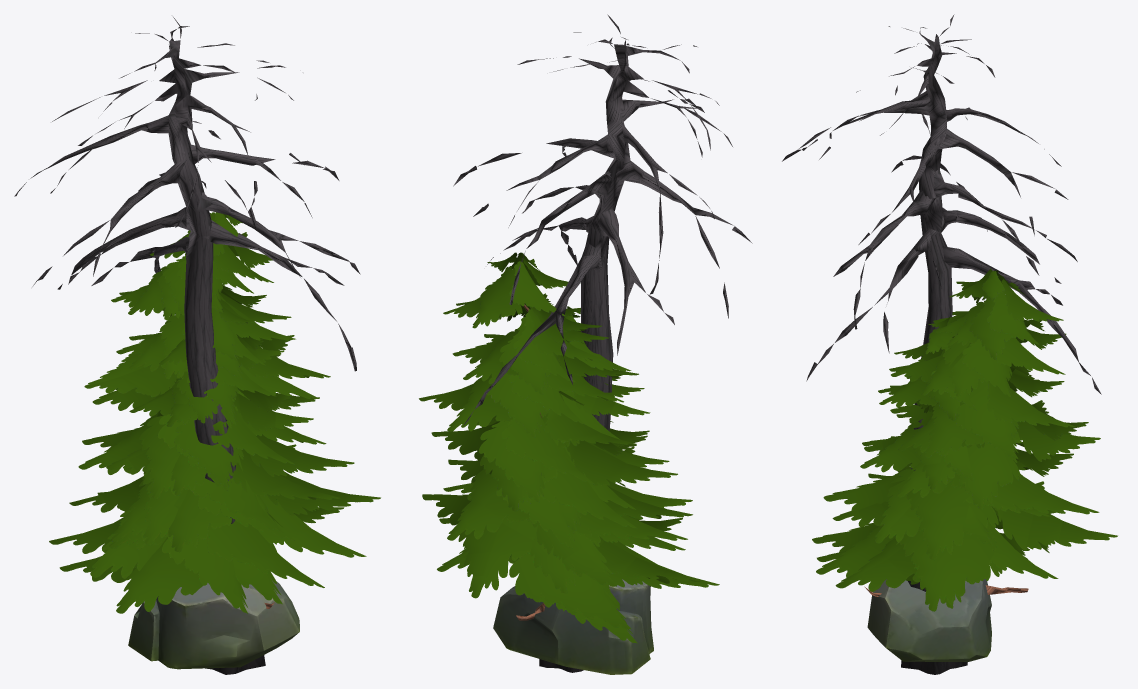
Rendered from forest.glb.
3 renders of one model, left to right at view 1: azimuth 30°, elevation 25°; view 2: azimuth 150°, elevation 25°; view 3: azimuth 270°, elevation 25°, orthographic. The views are drawn at different scales.
Parts seen in each view (by area): view 1: Pine_5, Pine_2, DeadTree_3, Rock_Medium_2; view 2: Pine_5, DeadTree_3, Pine_2, Rock_Medium_2; view 3: Pine_5, DeadTree_3, Pine_2, Rock_Medium_2.
Part boxes in pixels (x1,y1,x2,y2): Pine_5: (49,212,380,604); Pine_2: (59,294,344,613); DeadTree_3: (14,17,360,674); Rock_Medium_2: (128,580,299,669); Pine_5: (419,252,701,629); DeadTree_3: (453,14,752,672); Pine_2: (437,306,719,643); Rock_Medium_2: (493,579,653,674); Pine_5: (817,268,1117,611); DeadTree_3: (782,14,1101,674); Pine_2: (812,316,1058,608); Rock_Medium_2: (867,579,991,661).
Size of the model in its own units: 7.26 by 13.28 by 6.81.
6 materials, 6 textured.
